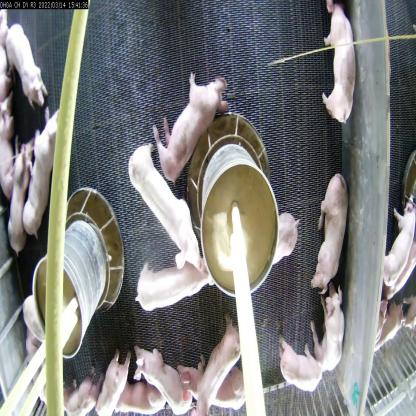Pig: (126, 138, 206, 284), (158, 71, 226, 177), (315, 7, 362, 118), (179, 344, 249, 414), (5, 11, 49, 122), (24, 115, 63, 235), (130, 340, 192, 415), (139, 250, 210, 314), (312, 175, 349, 295), (196, 317, 235, 415), (274, 329, 324, 399), (2, 143, 32, 256), (313, 282, 347, 370), (102, 371, 161, 415), (92, 356, 132, 416), (59, 371, 104, 415)
